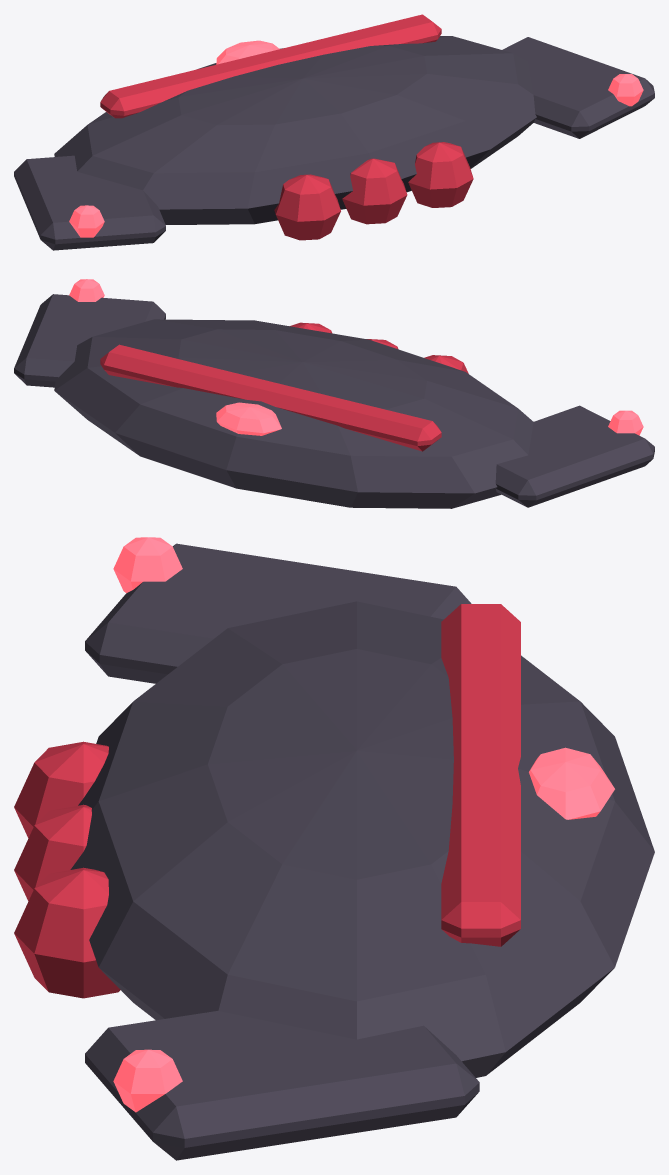
File: enemy_mine_layer.glb
3 views of the same model, one above another, from view 1: azimuth 30°, elevation 25°; view 2: azimuth 150°, elevation 25°; view 3: azimuth 270°, elevation 25° (orthographic). The views are drawn at different scales.
Visible parts, largest first — view 1: enemy_mine_layer; view 2: enemy_mine_layer; view 3: enemy_mine_layer.
Boxes of the visible parts, box(x1,y1,x2,y2) form: enemy_mine_layer: box(14, 14, 654, 250); enemy_mine_layer: box(14, 279, 654, 508); enemy_mine_layer: box(14, 537, 654, 1160).
Bounding box in the file's own units: 2.78 × 0.45 × 1.29.
